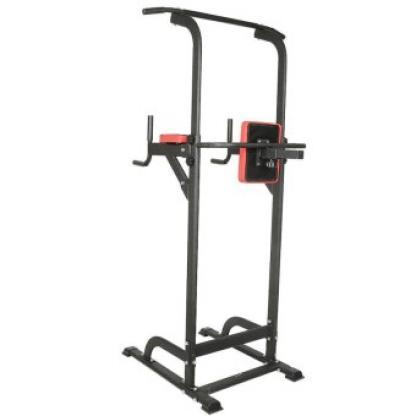chinning dipping: (121, 7, 306, 414)
